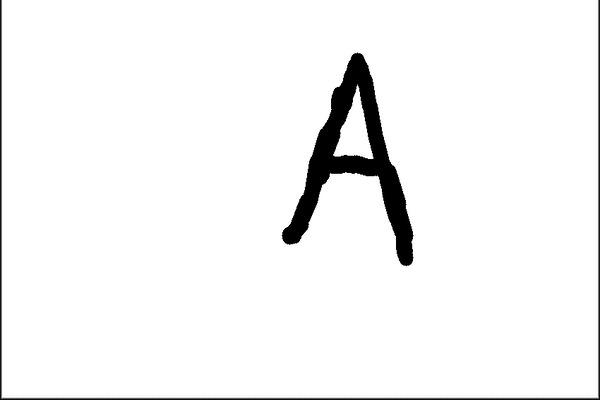A: (267, 39, 423, 272)
